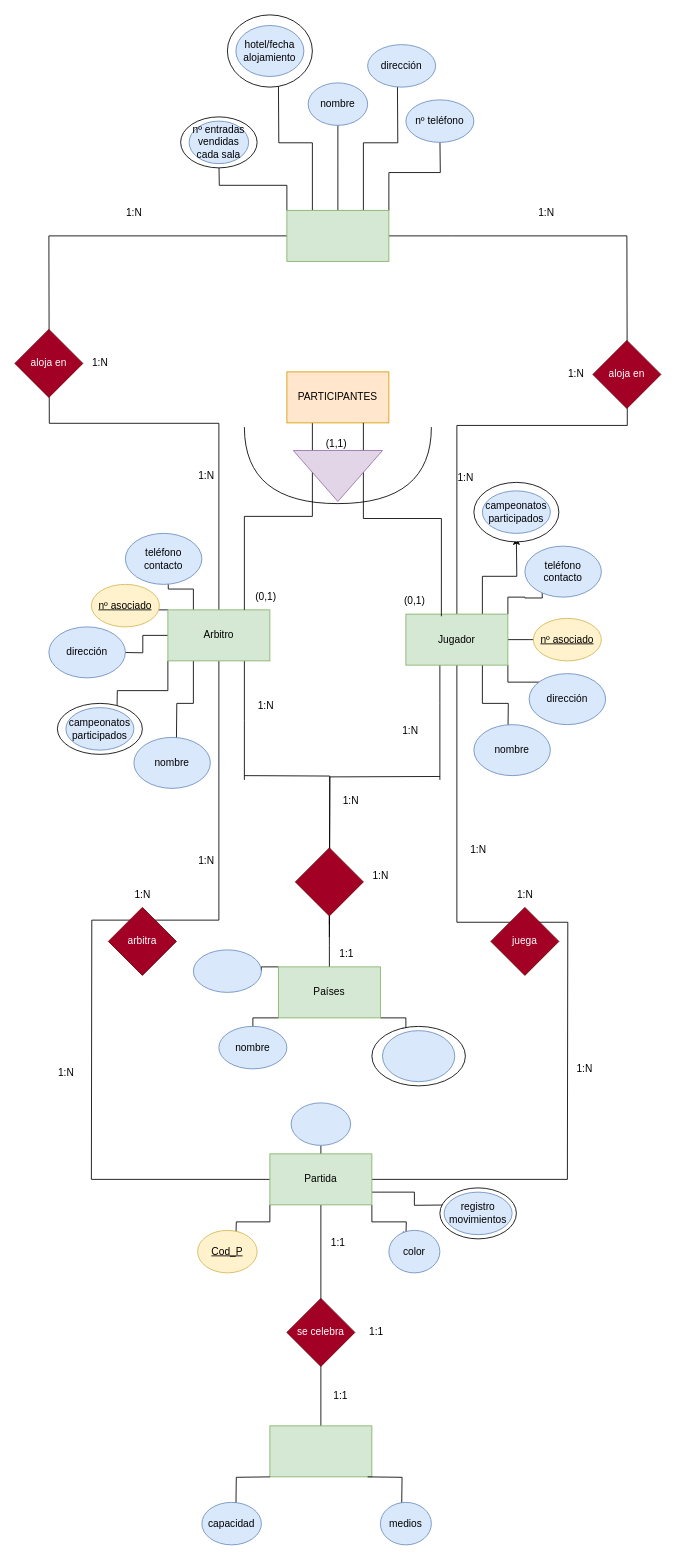
Some shapes in this 676 by 1560 pixel diagram are drawn without their labels. Each missing label, with the centre of its shape:
enviados: [329,881]
Hotel: [337,235]
número: [227,970]
número clubes: [418,1056]
que juega cada jugador: [320,1123]
Sala: [320,1451]
